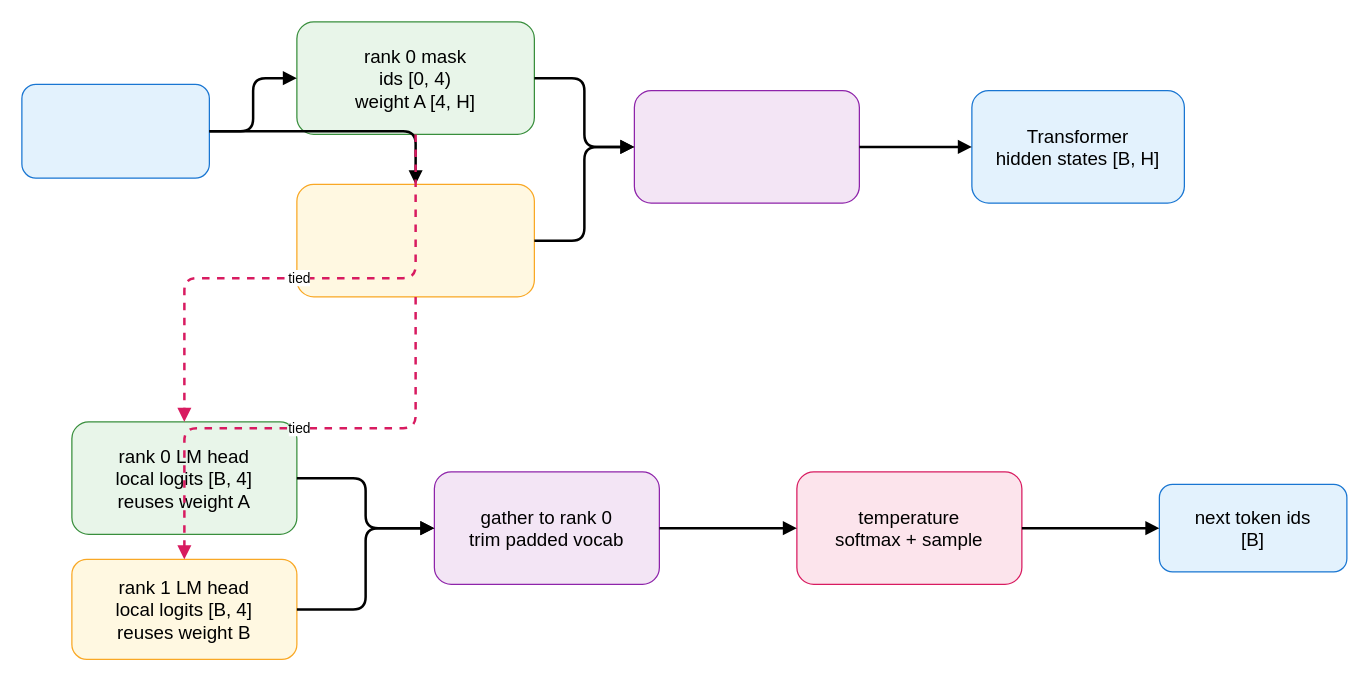
Some shapes in this 1369 by 681 pixel diagram are drawn without their labels. The shapes that lost their labels are listed below. From the top down, each one's centre as x and y in pixels, then its label:
point 115,130: token ids global vocabulary
point 746,146: all_reduce SUM full embeddings [..., H]
point 415,240: rank 1 mask ids [4, 7] weight B + zero pad row
